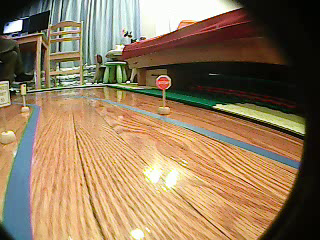Stop Sign: (154, 74, 172, 91)
